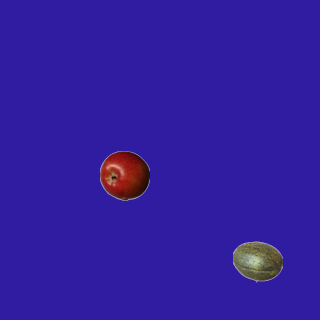Apple Braeburn: (99, 150, 149, 200)
Melon Piel de Sapo: (232, 236, 282, 286)
